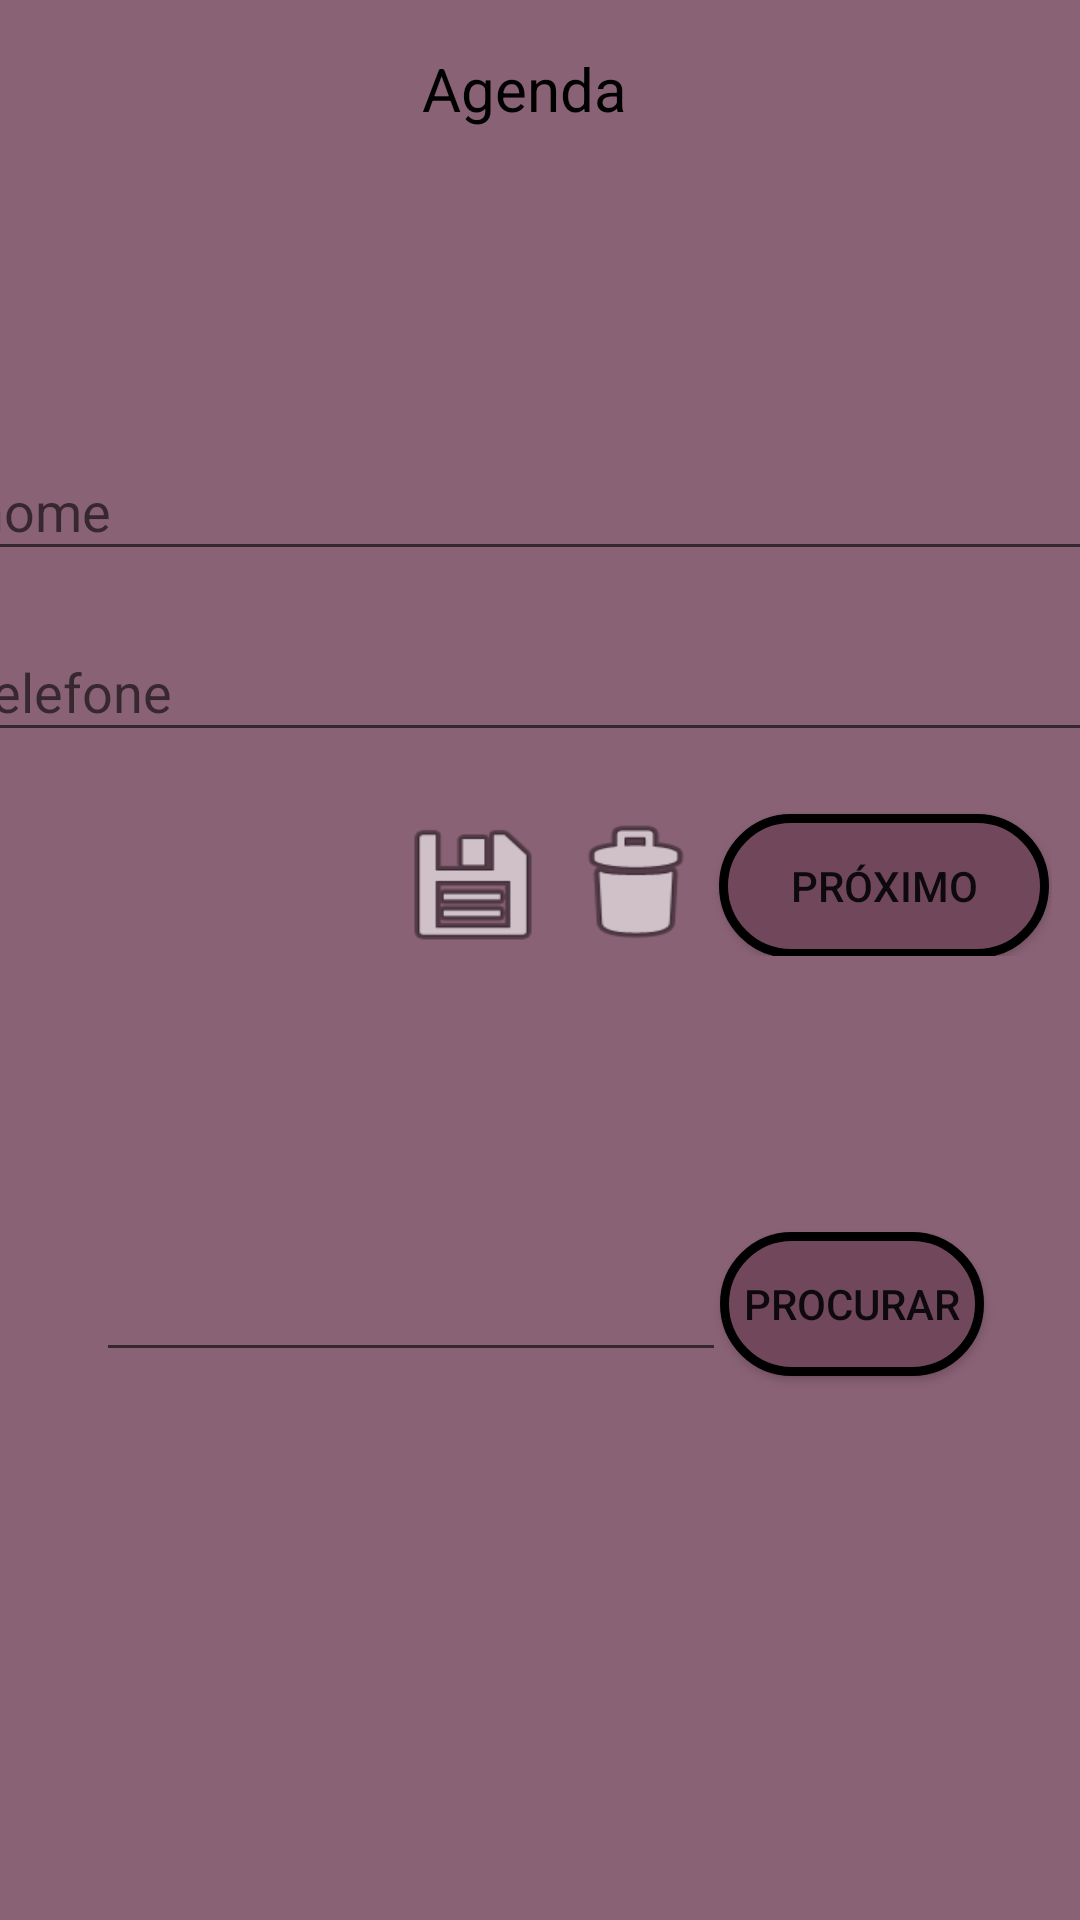

Where icons sit on this 1080 x 1920 app screen, as (x1, y1, x2, y2):
delete: (589, 826, 683, 938)
save: (414, 830, 532, 939)
